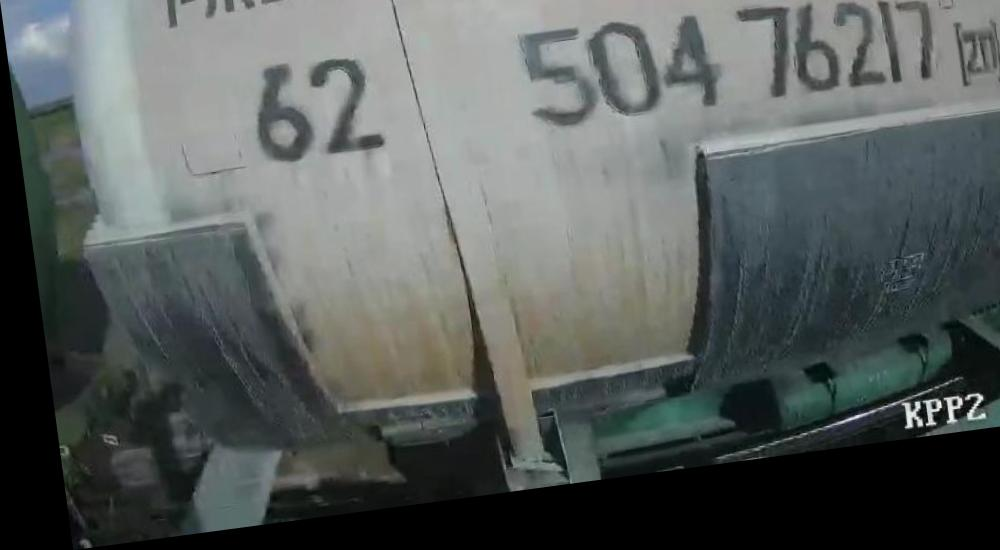Wagon-number: (509, 0, 942, 154)
